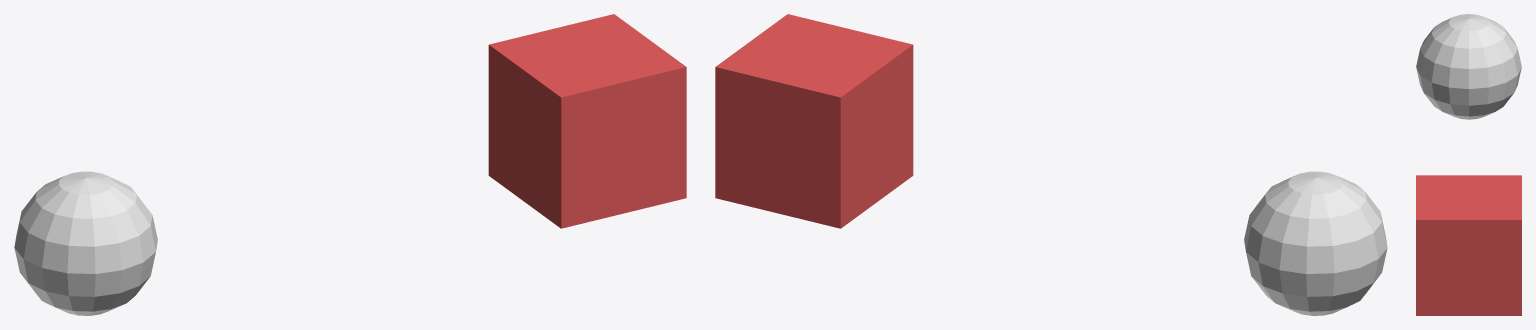
Rendered from two_objects_blender.glb.
The picture shows the model from 3 angles, left to right: view 1: azimuth 30°, elevation 25°; view 2: azimuth 150°, elevation 25°; view 3: azimuth 270°, elevation 25°; orthographic projection. The views are drawn at different scales.
Visible parts, largest first — view 1: Box, Ball; view 2: Box, Ball; view 3: Box, Ball.
Boxes of the visible parts, bbox=[...] form: Box: bbox=[488, 14, 686, 228]; Ball: bbox=[14, 171, 157, 315]; Box: bbox=[715, 14, 913, 228]; Ball: bbox=[1244, 171, 1387, 315]; Box: bbox=[1416, 175, 1521, 315]; Ball: bbox=[1416, 14, 1521, 119].
Bounding box in the file's own units: 5 × 1 × 1.
